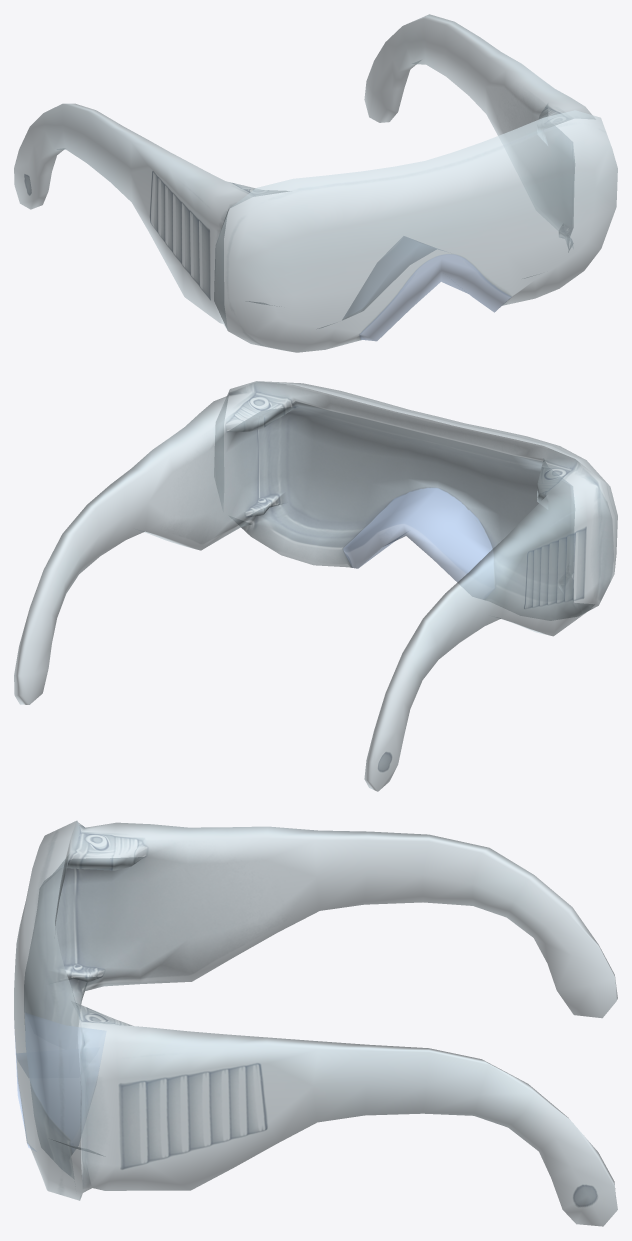
3 views of the same model, one above another, from view 1: azimuth 30°, elevation 25°; view 2: azimuth 150°, elevation 25°; view 3: azimuth 270°, elevation 25° (orthographic). The views are drawn at different scales.
Parts seen in each view (by area): view 1: Wolf3D_Glasses; view 2: Wolf3D_Glasses; view 3: Wolf3D_Glasses.
Boxes of the visible parts, x1,y1,x2,y2 form: Wolf3D_Glasses: (14, 14, 617, 352); Wolf3D_Glasses: (14, 381, 617, 791); Wolf3D_Glasses: (14, 820, 617, 1226).
Bounding box in the file's own units: 0.1754 × 0.0729 × 0.1886.
Materials: 1 (1 with a texture image).
